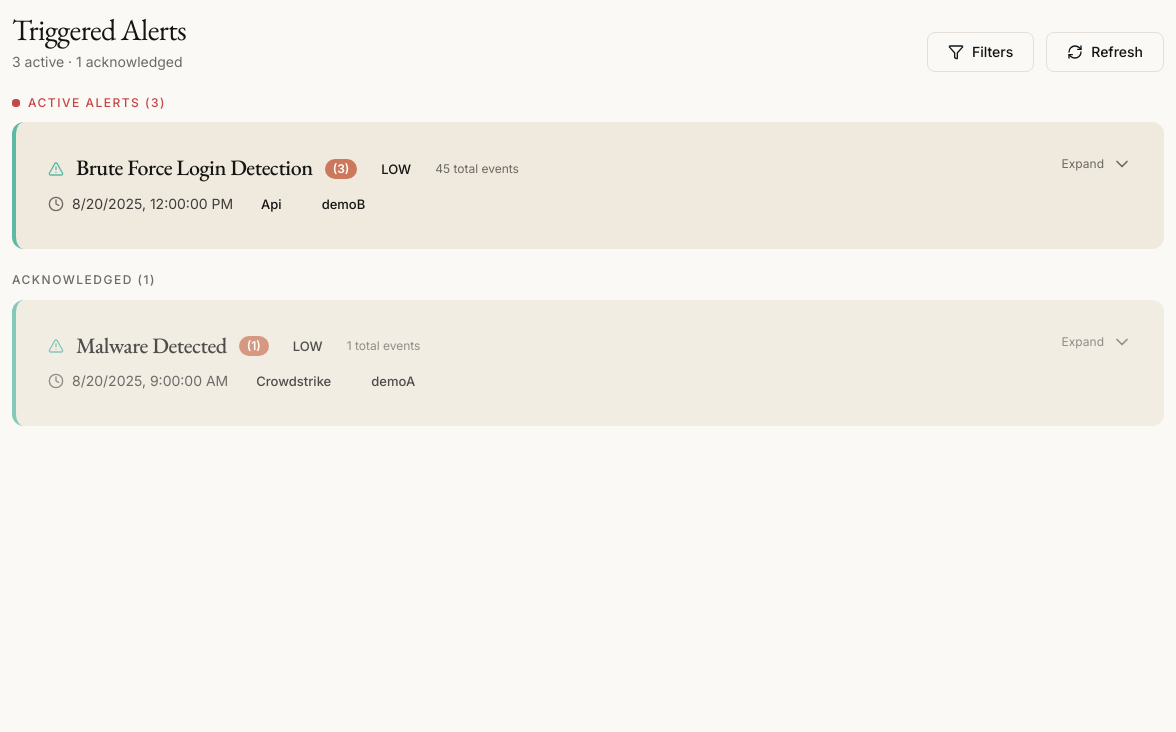
AlertTriggered Page › expands a group to reveal individual alerts and their src_ips
This screenshot has width=1176, height=732.
Expected: the text "(3)" is shown, [325,159,357,179]
// Click the group header (it's a button labelled by the rule name).
Click the button "Brute Force Login Detection" at (194, 168), box [48,154,1132,217]
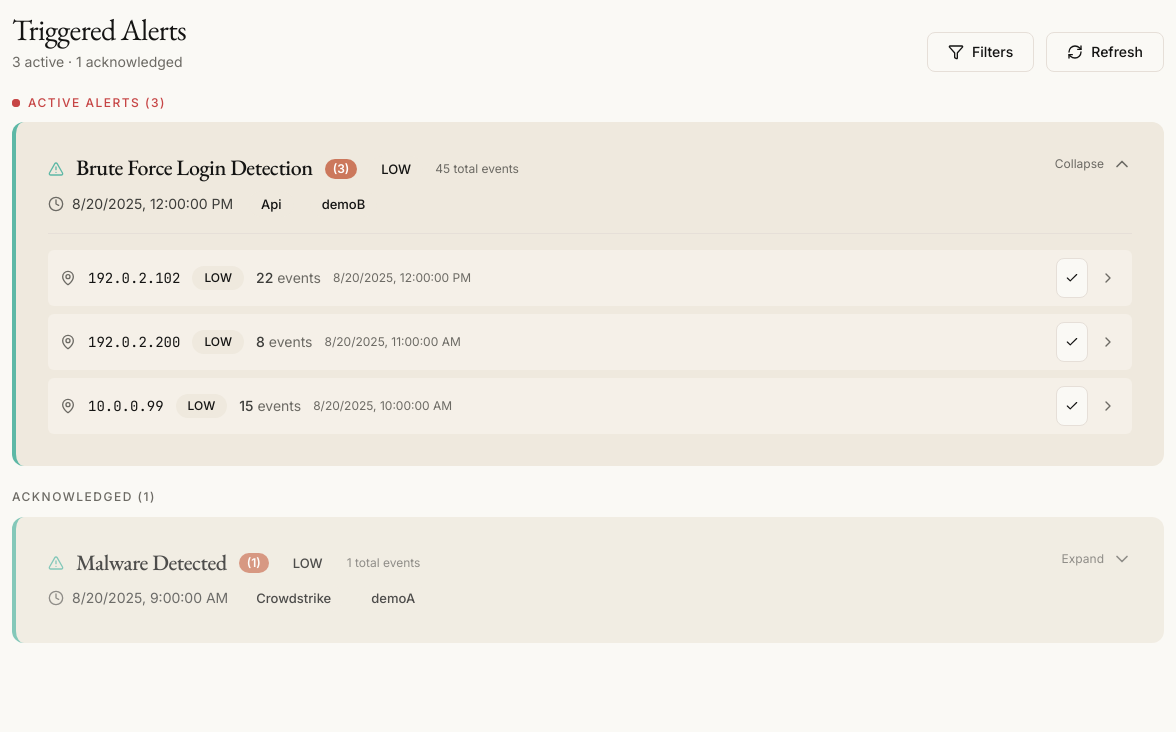
Expected: the text "10.0.0.99" is shown, [88,396,164,416]
Expected: the text "192.0.2.200" is shown, [88,332,180,352]
Expected: the text "192.0.2.102" is shown, [88,268,180,288]
